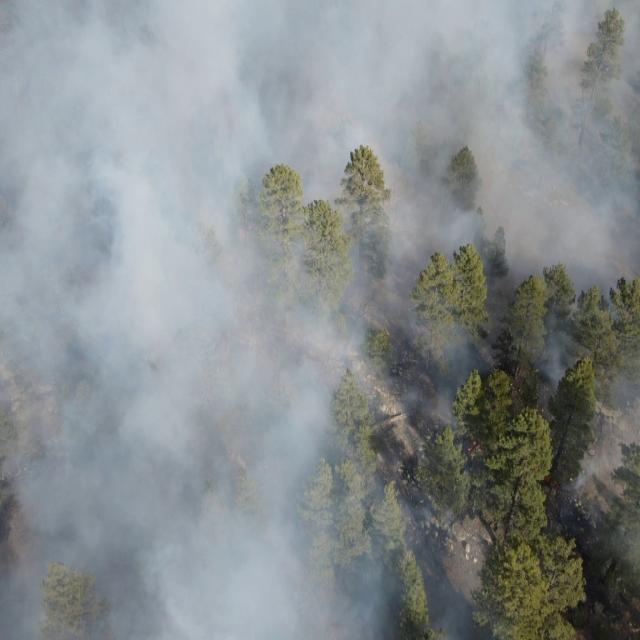fire: (468, 436, 483, 454)
smoke: (1, 1, 462, 640), (461, 0, 637, 385), (573, 392, 640, 568), (464, 506, 492, 640)
